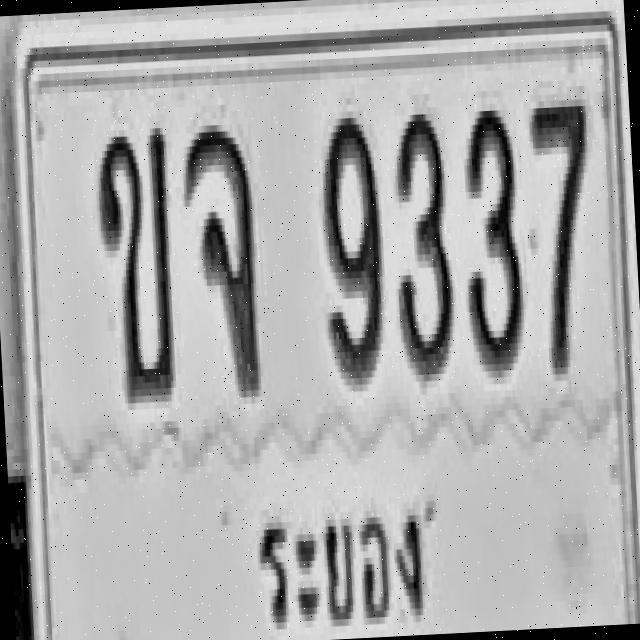11KhorKhai: (93, 122, 180, 404)
17ChorChan: (180, 120, 262, 397)
3: (388, 106, 456, 382), (458, 103, 526, 379)
7: (528, 92, 600, 375)
9: (317, 110, 388, 386)
Rayong: (246, 492, 434, 640)
